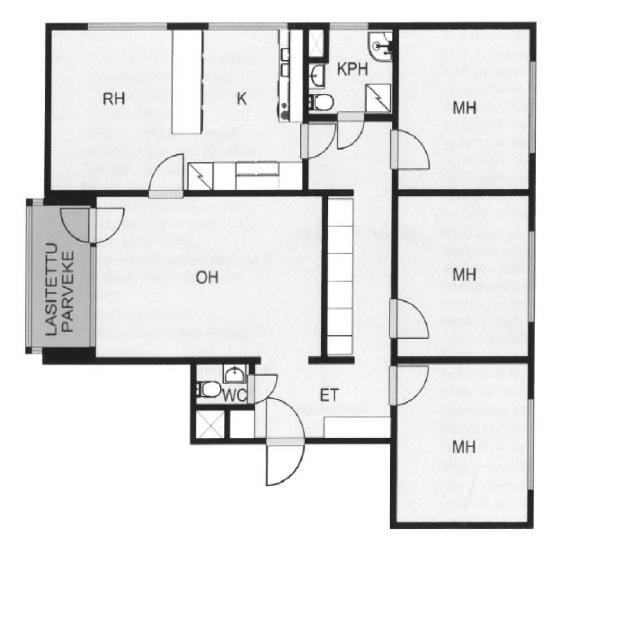door: (266, 398, 306, 491), (55, 202, 126, 240), (390, 124, 431, 174), (392, 298, 432, 346), (392, 363, 436, 405), (151, 152, 190, 196), (304, 121, 337, 161), (332, 113, 363, 150), (245, 372, 280, 402)
window: (80, 18, 168, 36), (202, 18, 286, 32), (528, 58, 540, 155), (526, 233, 538, 330), (526, 399, 538, 495), (318, 22, 377, 34)
zone: (45, 32, 303, 190), (89, 195, 325, 358), (394, 362, 533, 522), (394, 30, 531, 188), (398, 192, 527, 358), (304, 30, 392, 114), (191, 365, 251, 405)
